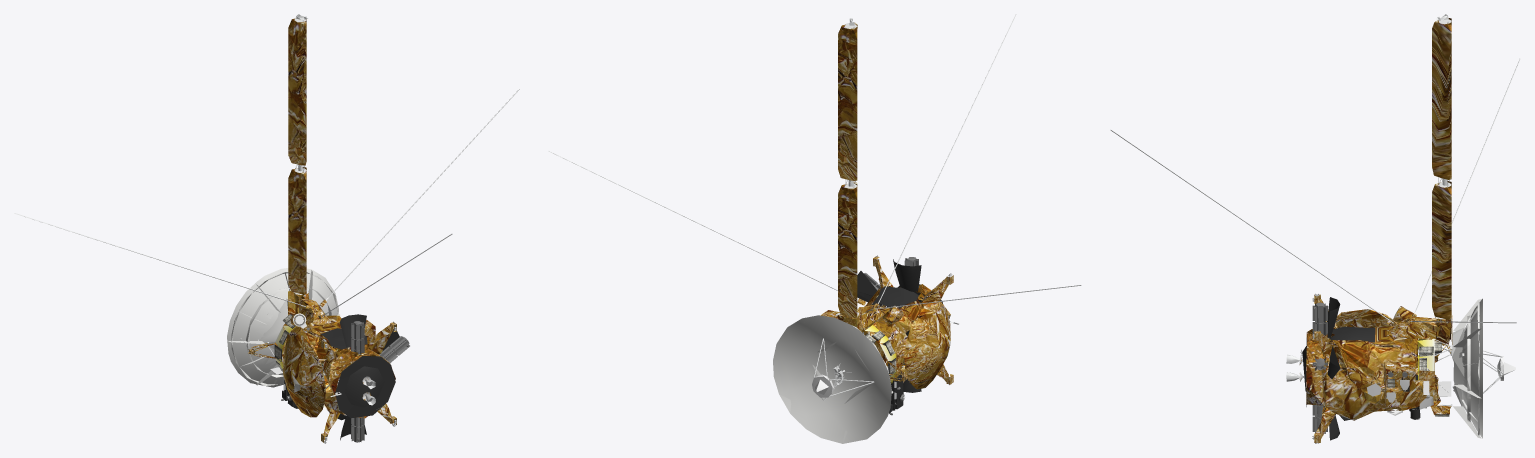
The model's file is cassini_lod2.glb.
3 views of the same model, side by side, from view 1: azimuth 30°, elevation 25°; view 2: azimuth 150°, elevation 25°; view 3: azimuth 270°, elevation 25° (orthographic). The views are drawn at different scales.
Visible parts, largest first — view 1: cassini_lod2; view 2: cassini_lod2; view 3: cassini_lod2.
Boxes of the visible parts, x1,y1,x2,y2 form: cassini_lod2: (14, 14, 519, 443); cassini_lod2: (548, 14, 1081, 443); cassini_lod2: (1110, 14, 1520, 443).
Bounding box in the file's own units: 17.94 × 13.07 × 11.64.
Materials: 8 (3 with a texture image).
